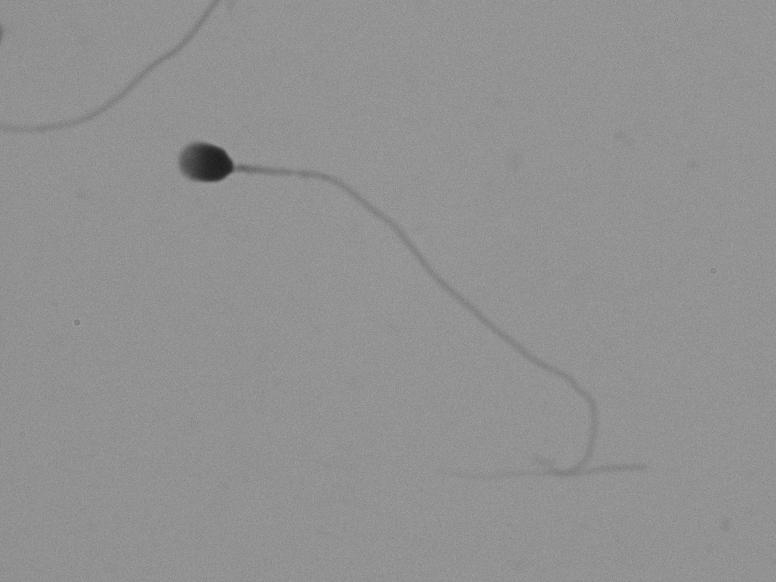Normal: (130, 72, 666, 514)
